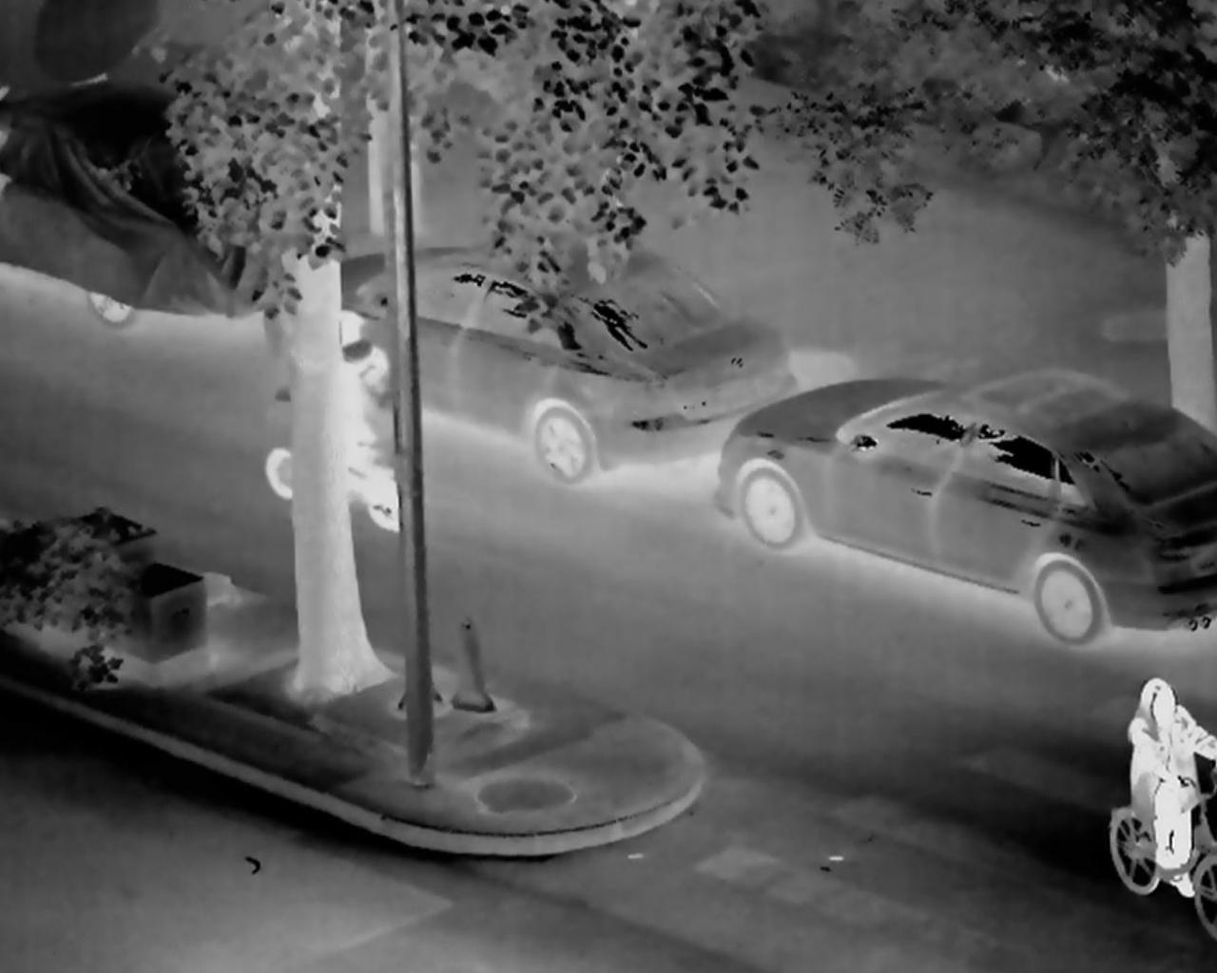person: (272, 291, 415, 502), (1109, 663, 1217, 901)
